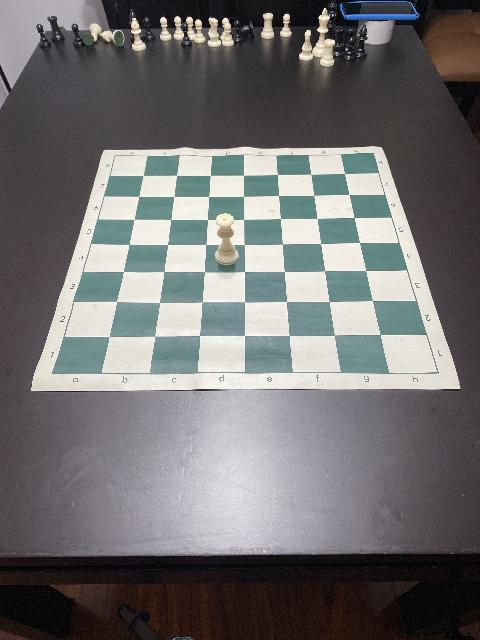board: (29, 148, 460, 390)
white-queen: (214, 212, 238, 266)
